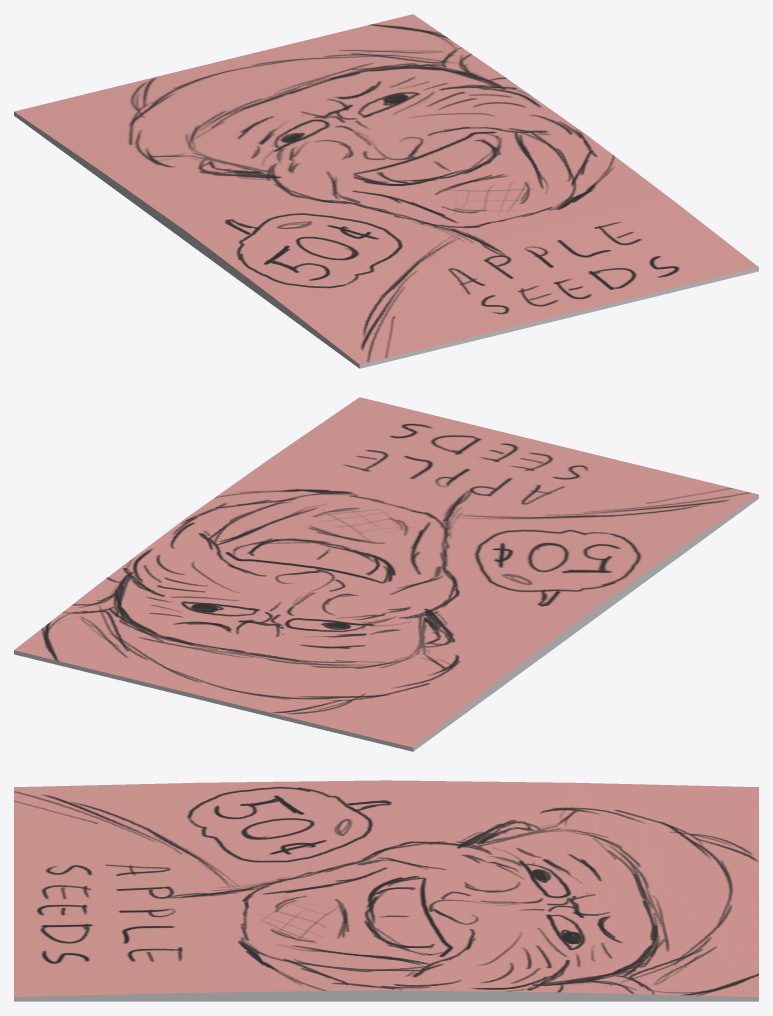
File: pack.fbx
The picture shows the model from 3 angles, top to bottom: view 1: azimuth 30°, elevation 25°; view 2: azimuth 150°, elevation 25°; view 3: azimuth 270°, elevation 25°; orthographic projection. The views are drawn at different scales.
Visible parts, largest first — view 1: Plane; view 2: Plane; view 3: Plane.
Boxes of the visible parts, bbox=[...] form: Plane: bbox=[14, 14, 758, 368]; Plane: bbox=[14, 397, 758, 751]; Plane: bbox=[14, 780, 758, 1001].
Size of the model in its own units: 200 by 5 by 300.
